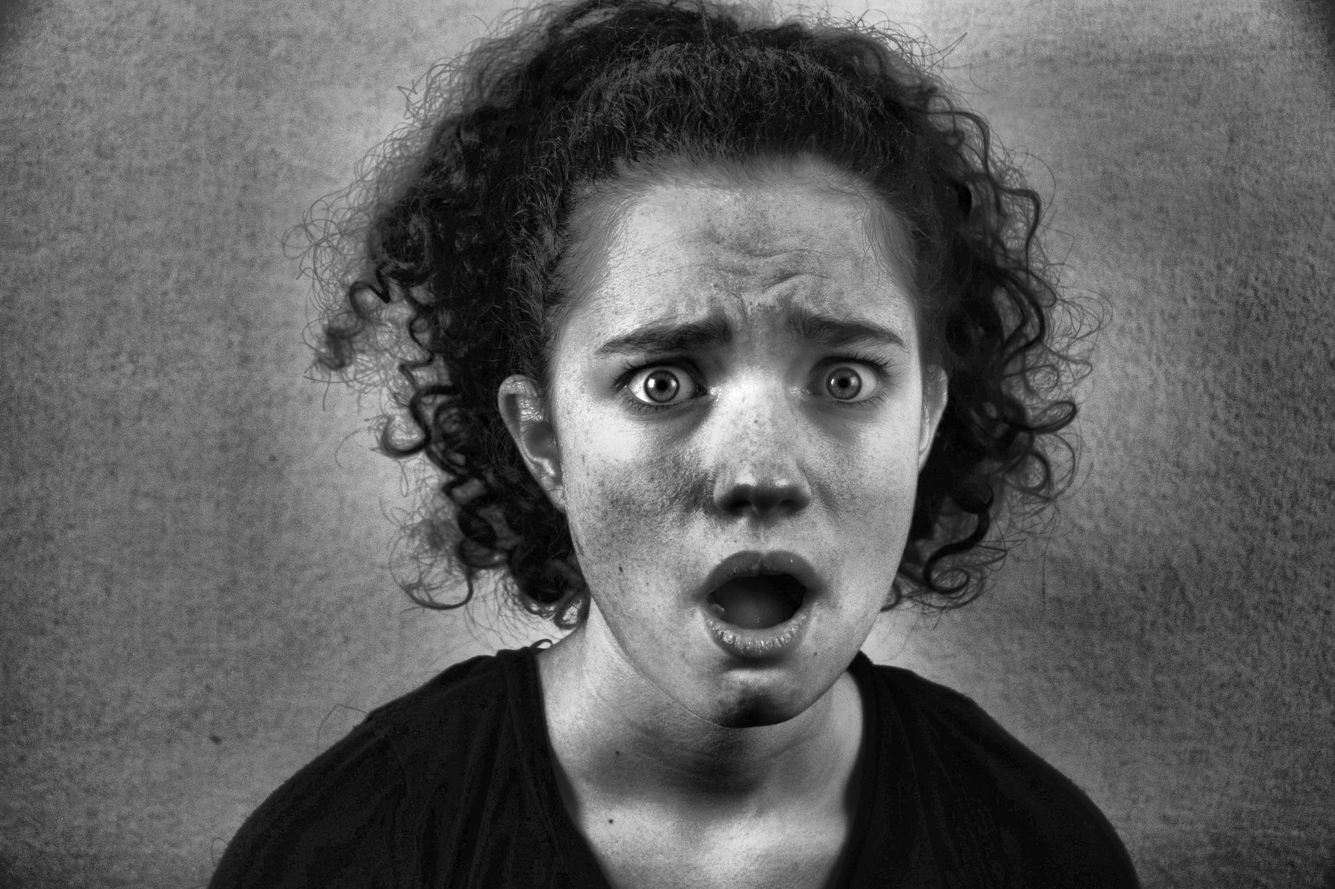surprised: (568, 219, 937, 727)
